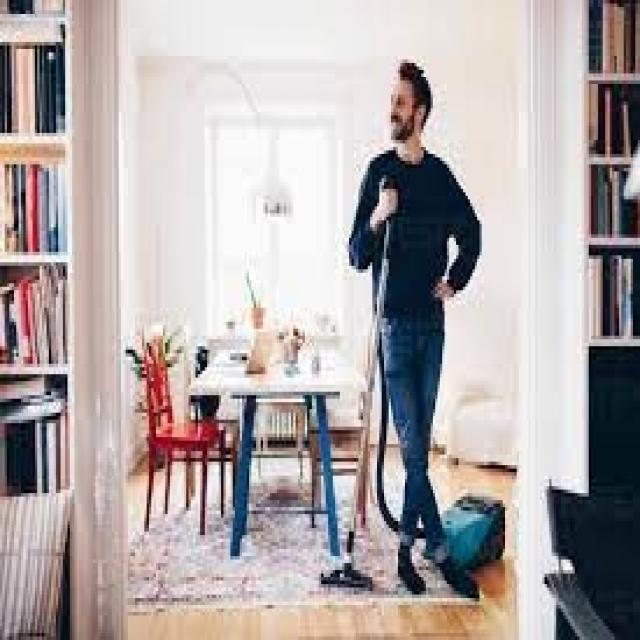walking: (331, 57, 494, 603)
